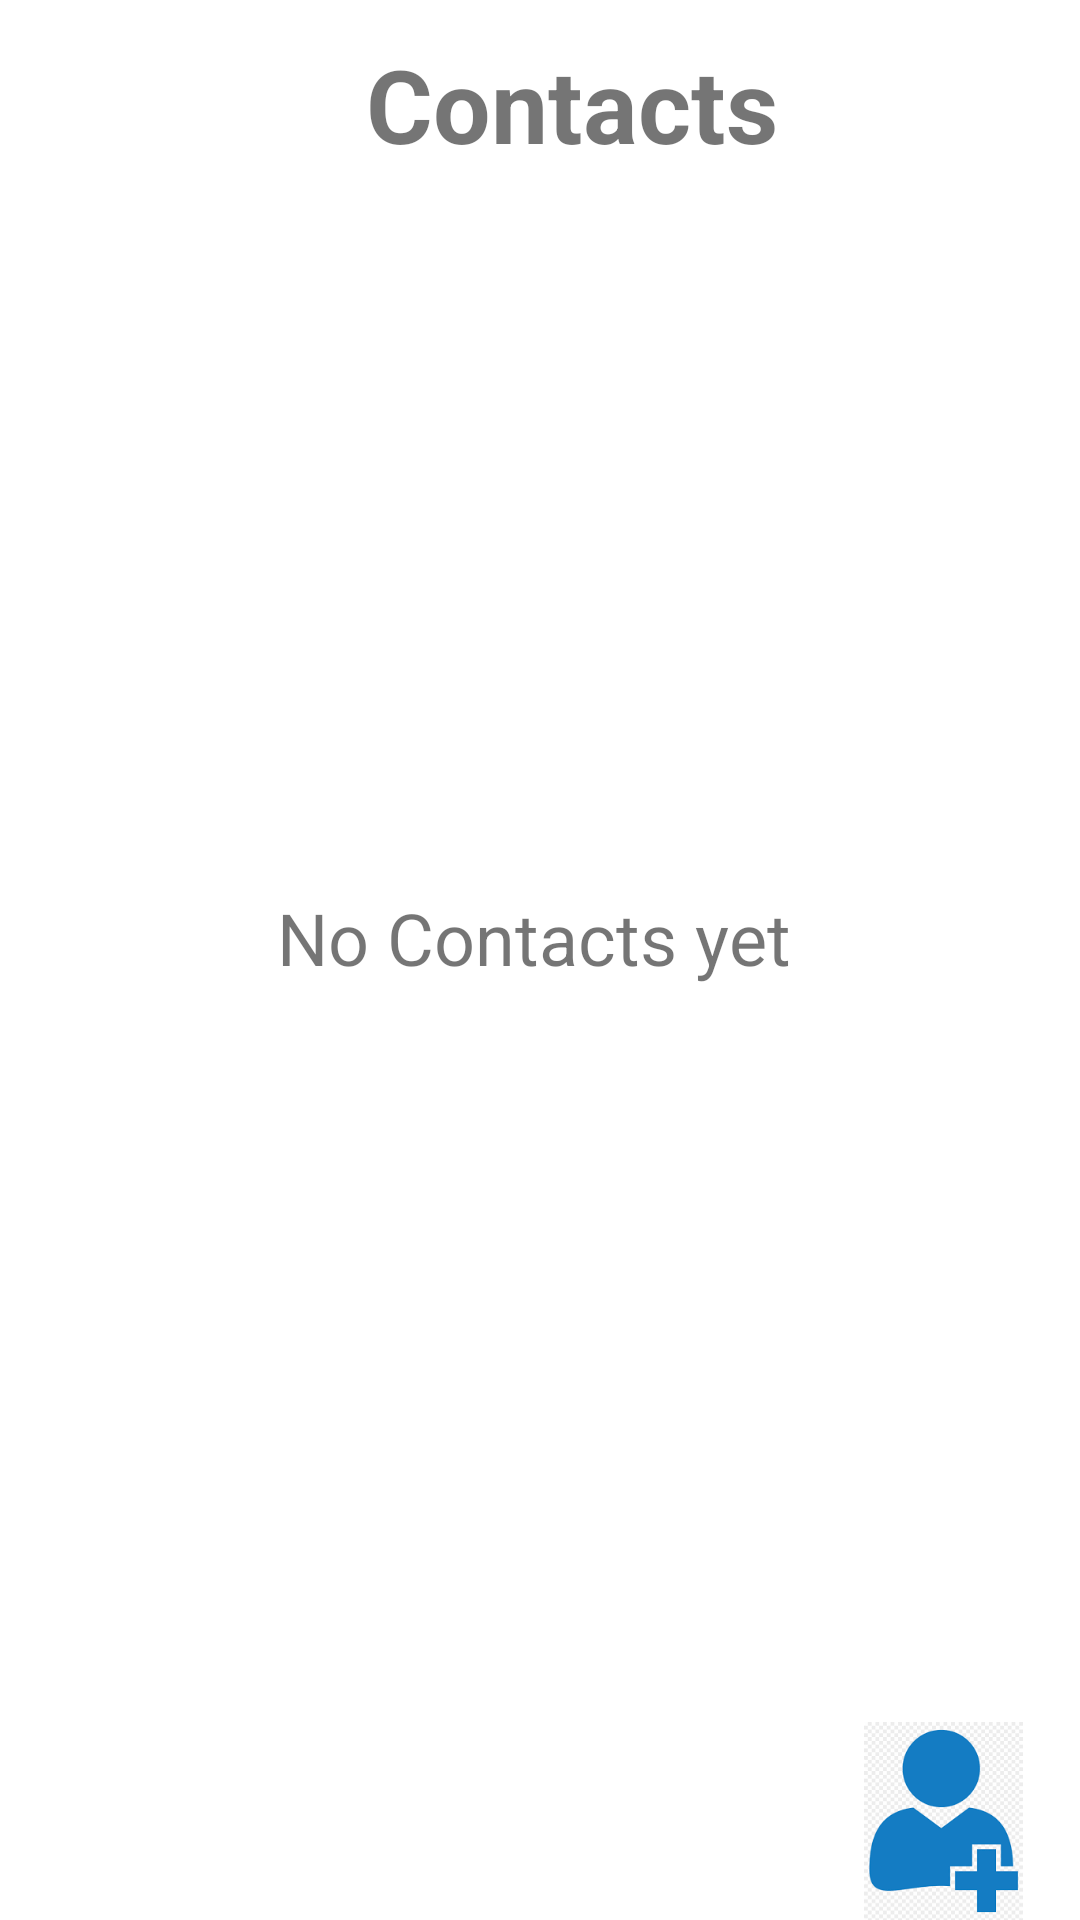

Where to tap for icons on this 1080*1920 app screen, as point (x, y):
add: point (944, 1821)
